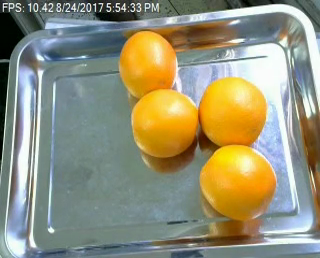Orange: (198, 144, 276, 219), (199, 77, 267, 148), (131, 89, 200, 157), (118, 30, 177, 100)
